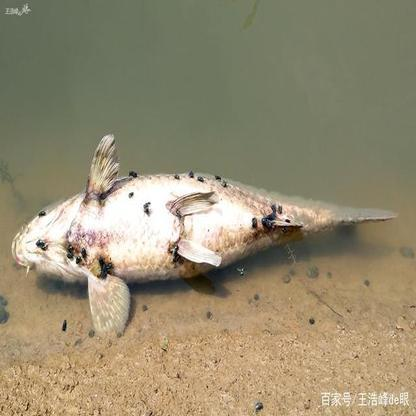deceased fish: (10, 131, 406, 335)
